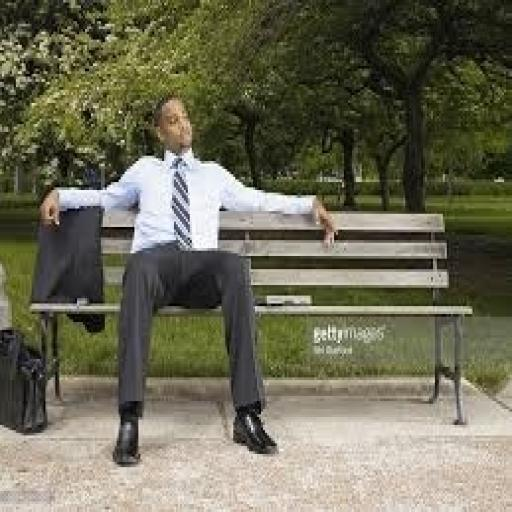sitting: (34, 90, 340, 467)
